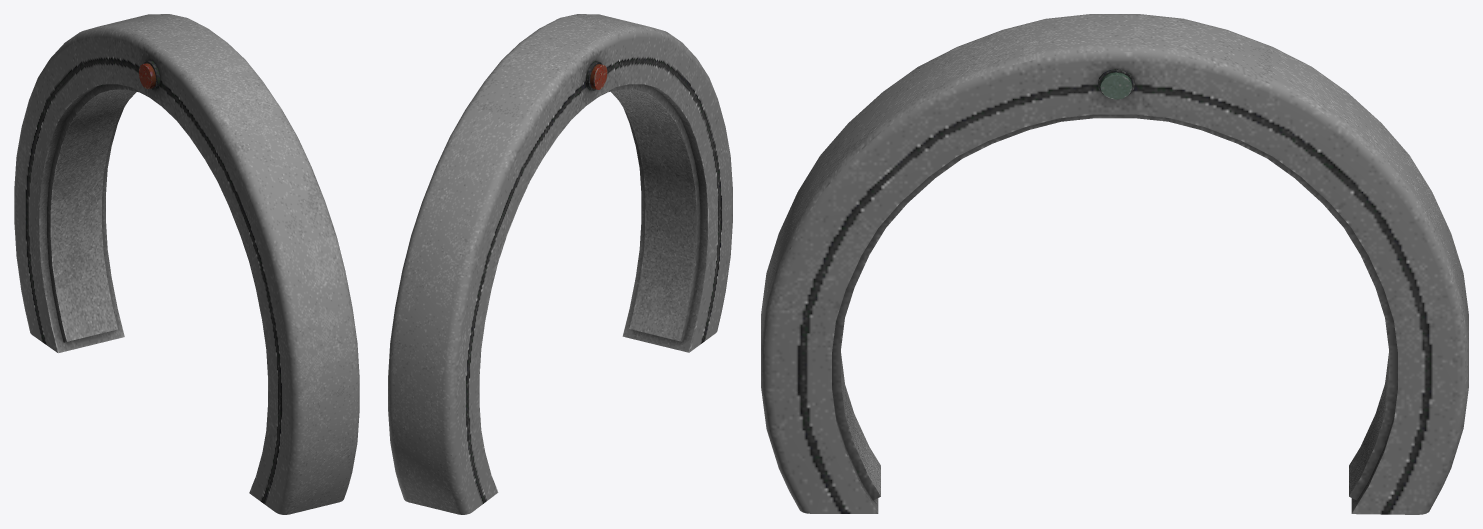
The model's file is SM_entrance.glb.
3 views of the same model, side by side, from view 1: azimuth 30°, elevation 25°; view 2: azimuth 150°, elevation 25°; view 3: azimuth 270°, elevation 25° (orthographic). The views are drawn at different scales.
Visible parts, largest first — view 1: Plane.001; view 2: Plane.001; view 3: Plane.001.
Boxes of the visible parts, <box> form: Plane.001: <box>14,14,359,514</box>; Plane.001: <box>388,14,732,514</box>; Plane.001: <box>761,14,1468,514</box>.
Bounding box in the file's own units: 2.1 × 9.26 × 12.77.
1 material, 1 textured.
